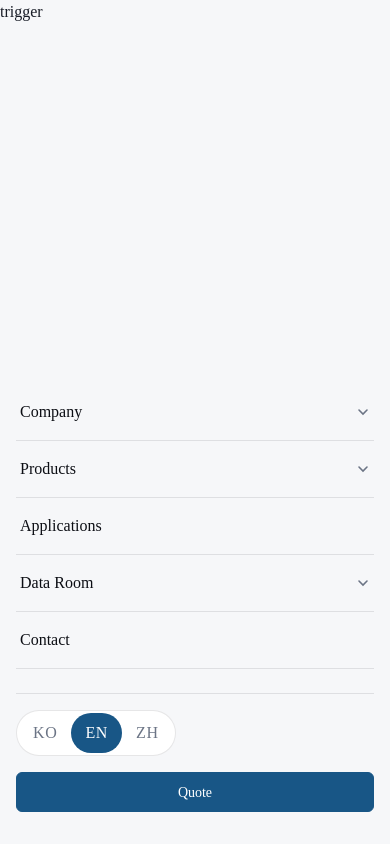
Scenario: MobileNav › Resources accordion reveals 4 resource links (no products 'all' link)
Step 1. Click the button "Data Room" → (57, 582), box [16, 555, 374, 611]
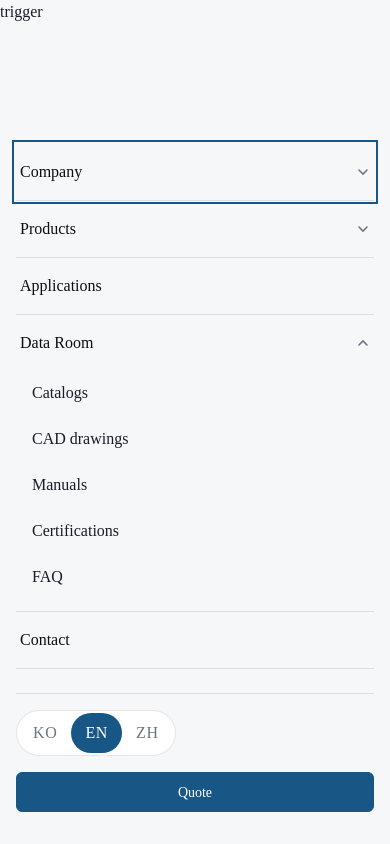
Expected: the link "Catalogs" is shown, [32, 384, 88, 401]
Expected: the link "CAD drawings" is shown, [32, 430, 128, 447]
Expected: the link "Manuals" is shown, [32, 476, 87, 493]
